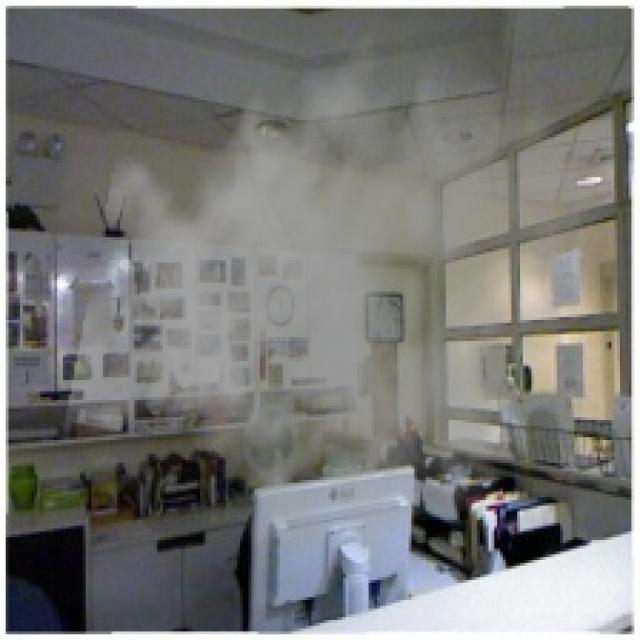smoke: (63, 9, 606, 577)
